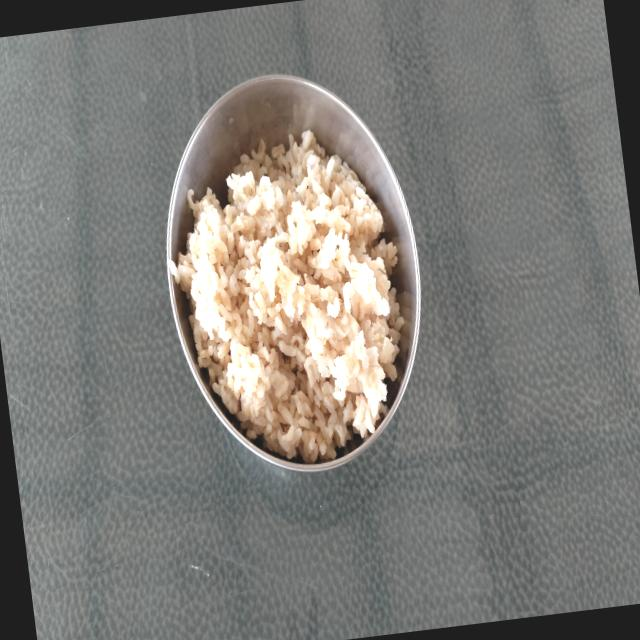brown-rice: (169, 131, 403, 464)
